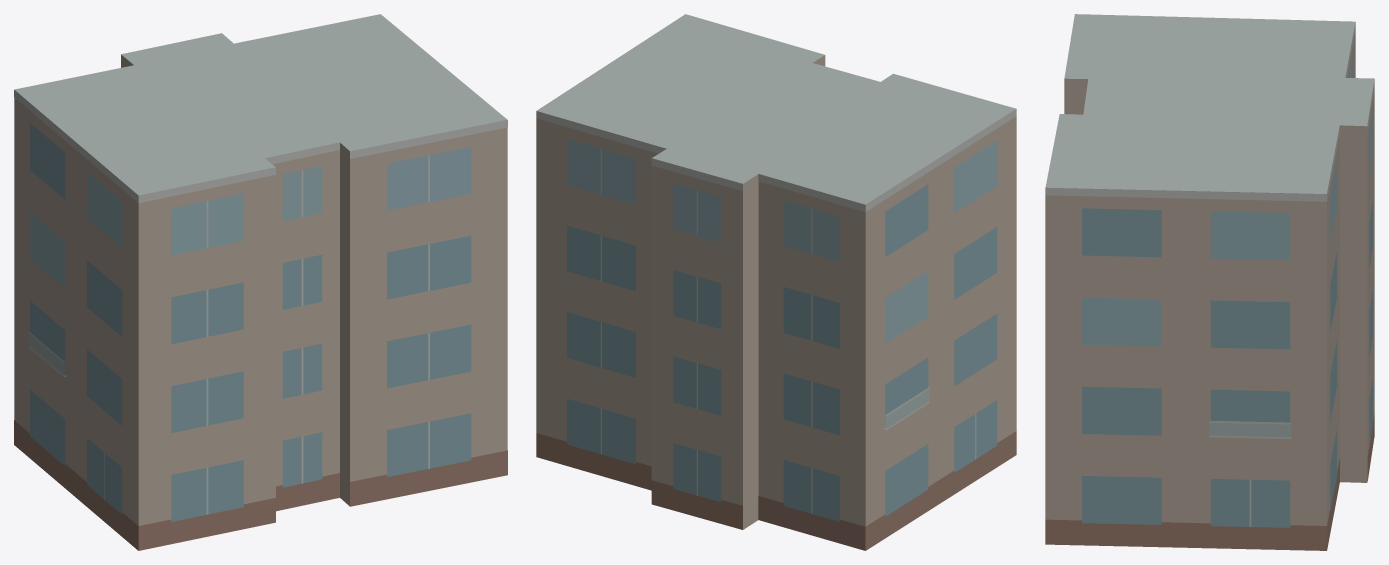
The model's file is survey-upis-32974007.glb.
3 renders of one model, left to right at view 1: azimuth 30°, elevation 25°; view 2: azimuth 150°, elevation 25°; view 3: azimuth 270°, elevation 25°, orthographic. The views are drawn at different scales.
Visible parts, largest first — view 1: survey-upis-32974007.tmp; view 2: survey-upis-32974007.tmp; view 3: survey-upis-32974007.tmp.
Part boxes in pixels (box(x1,y1,x2,y2)): survey-upis-32974007.tmp: box(14, 14, 507, 550); survey-upis-32974007.tmp: box(536, 14, 1016, 550); survey-upis-32974007.tmp: box(1045, 14, 1374, 550).
Size of the model in its own units: 12.33 by 11.38 by 9.53.
